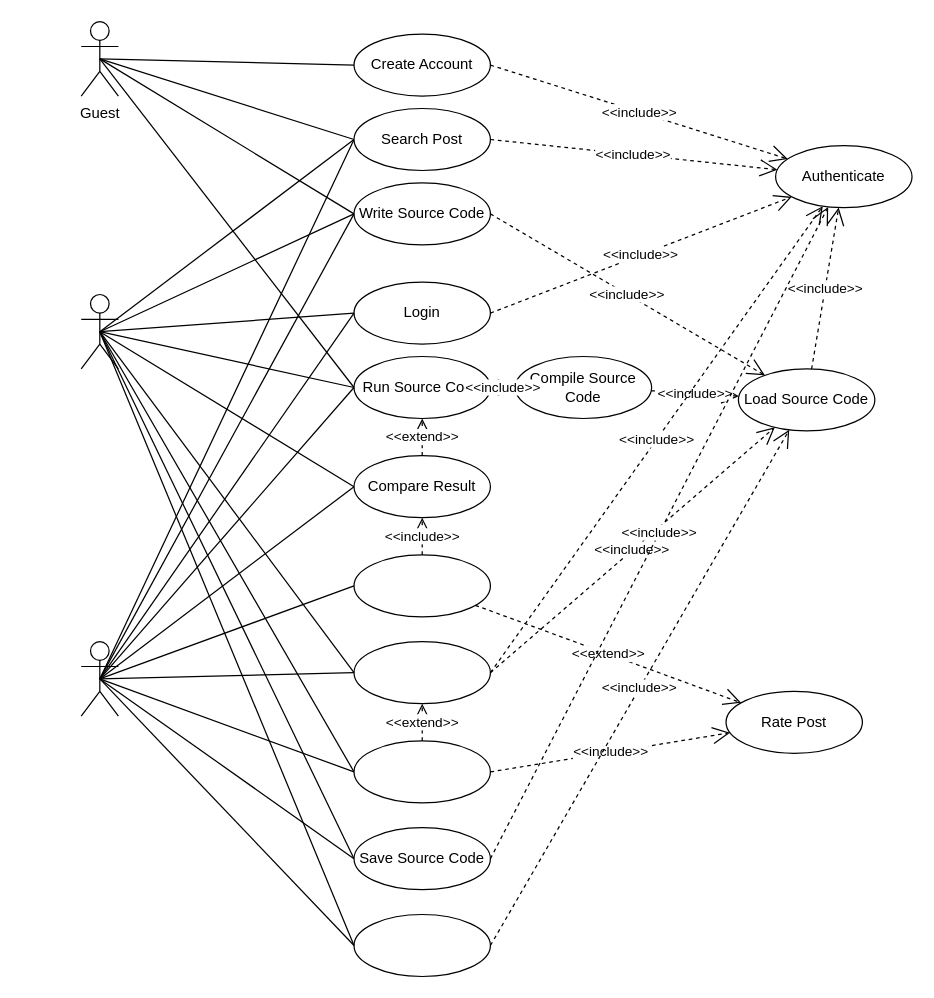
The diagram is 934 pixels wide and 998 high, and some of its shapes have lost their labels. Each missing label, with the centre of its shape:
"Download Source Code" goes at point 421,944.
"Grade Code" goes at point 421,585.
"Post Source Code" goes at point 421,672.
"Reply Post" goes at point 421,771.
"User (Normal / Student)" goes at point 99,331.
"User (Teacher)" goes at point 99,678.
